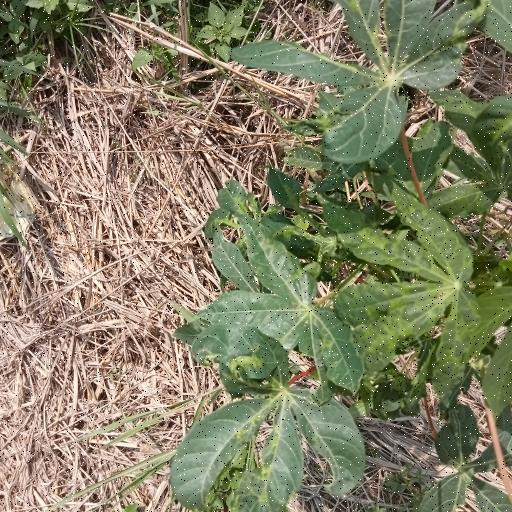Cassava_Mosaic: (252, 0, 488, 153), (331, 189, 483, 394), (194, 335, 331, 512)
